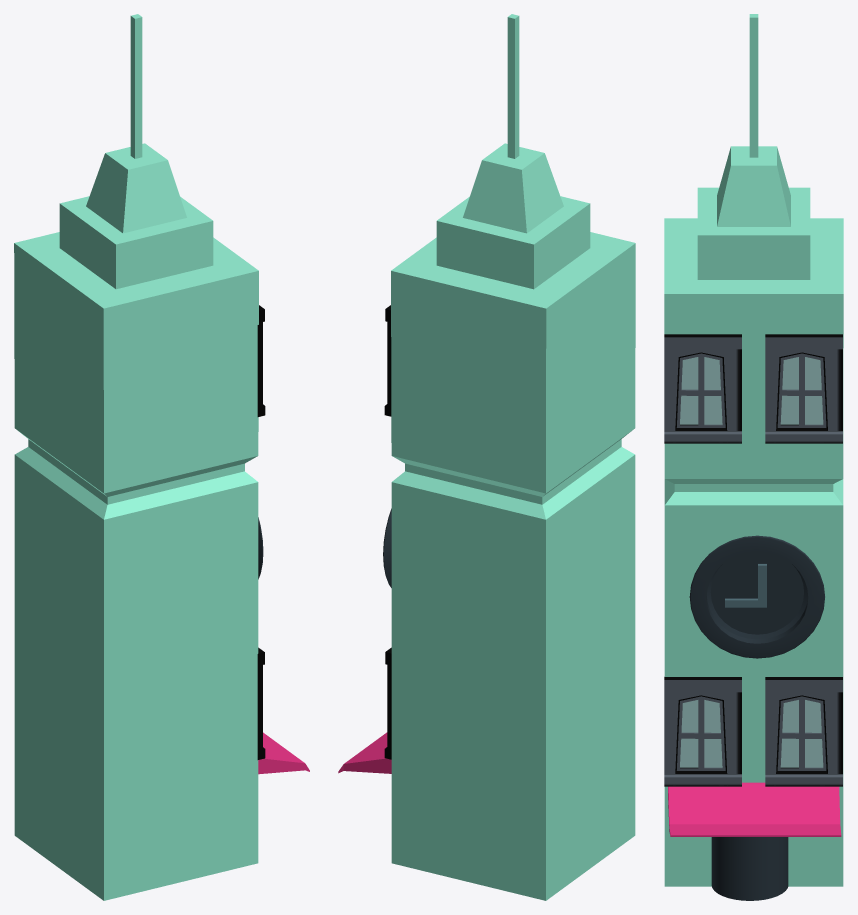
The model's file is ShortBuilding.fbx.
3 renders of one model, left to right at view 1: azimuth 30°, elevation 25°; view 2: azimuth 150°, elevation 25°; view 3: azimuth 270°, elevation 25°, orthographic.
Parts seen in each view (by area): view 1: WindowPlane.001; view 2: WindowPlane.001; view 3: WindowPlane.001.
Part boxes in pixels (<box>): WindowPlane.001: <box>14,14,309,900</box>; WindowPlane.001: <box>338,14,635,900</box>; WindowPlane.001: <box>664,14,843,900</box>.
Size of the model in its own units: 610 by 2321 by 453.
